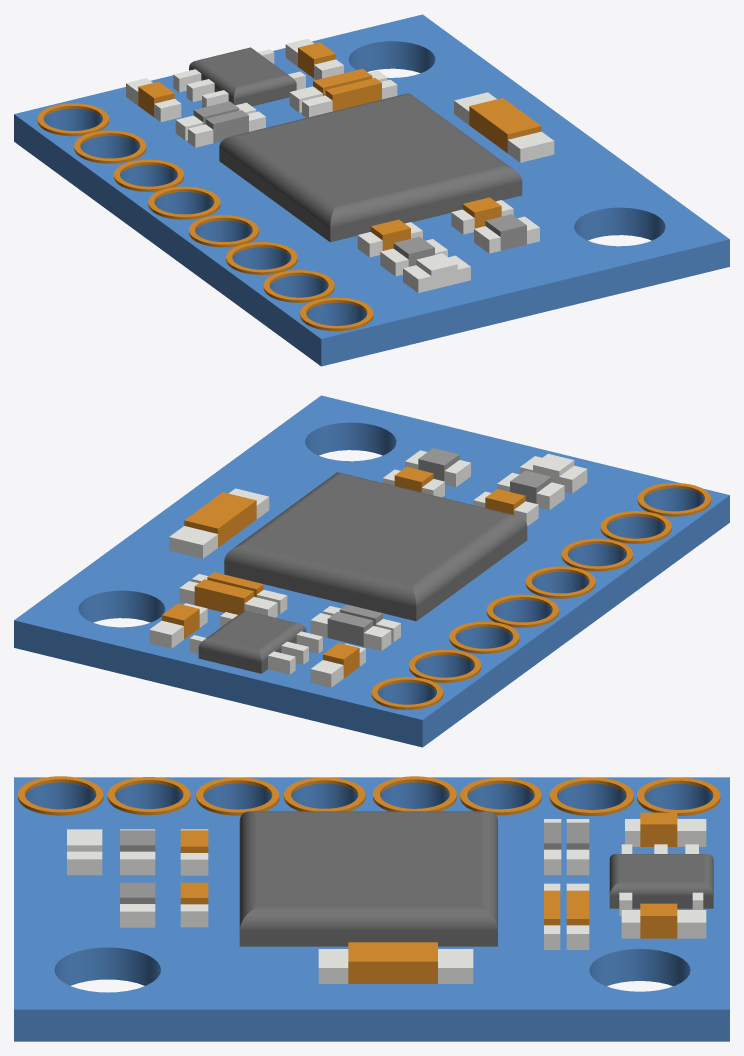
The model's file is MPU6050-v2.glb.
The picture shows the model from 3 angles, top to bottom: view 1: azimuth 30°, elevation 25°; view 2: azimuth 150°, elevation 25°; view 3: azimuth 270°, elevation 25°; orthographic projection. The views are drawn at different scales.
Parts seen in each view (by area): view 1: Body1, Body44, Body43, Body40, Body32, Body22, Body34, Body39, Body52, Body51, Body46, Body45 (+14 smaller); view 2: Body1, Body44, Body43, Body40, Body38, Body23, Body36, Body52, Body50, Body48, Body51, Body46 (+15 smaller); view 3: Body1, Body44, Body43, Body40, Body37, Body52, Body46, Body31, Body48, Body45, Body23, Body50 (+24 smaller).
Part boxes in pixels (x1=…): Body1: x1=14, y1=14, x2=729, y2=366; Body44: x1=219, y1=93, x2=522, y2=242; Body43: x1=189, y1=47, x2=296, y2=106; Body40: x1=469, y1=98, x2=541, y2=152; Body32: x1=325, y1=78, x2=381, y2=111; Body22: x1=507, y1=131, x2=554, y2=162; Body34: x1=485, y1=214, x2=526, y2=250; Body39: x1=416, y1=253, x2=457, y2=289; Body52: x1=300, y1=297, x2=373, y2=331; Body51: x1=148, y1=186, x2=220, y2=219; Body46: x1=74, y1=130, x2=146, y2=163; Body45: x1=226, y1=242, x2=297, y2=274; Body1: x1=14, y1=395, x2=729, y2=747; Body44: x1=224, y1=472, x2=527, y2=621; Body43: x1=198, y1=610, x2=306, y2=673; Body40: x1=184, y1=492, x2=256, y2=547; Body38: x1=194, y1=579, x2=253, y2=614; Body23: x1=169, y1=526, x2=217, y2=558; Body36: x1=327, y1=611, x2=373, y2=646; Body52: x1=637, y1=483, x2=710, y2=516; Body50: x1=371, y1=677, x2=443, y2=709; Body48: x1=600, y1=511, x2=671, y2=543; Body51: x1=486, y1=594, x2=558, y2=627; Body46: x1=409, y1=649, x2=480, y2=682; Body1: x1=14, y1=777, x2=729, y2=1041; Body44: x1=239, y1=811, x2=497, y2=946; Body43: x1=609, y1=854, x2=713, y2=908; Body40: x1=348, y1=942, x2=437, y2=983; Body37: x1=640, y1=903, x2=677, y2=938; Body52: x1=18, y1=776, x2=103, y2=815; Body46: x1=549, y1=777, x2=633, y2=815; Body31: x1=640, y1=812, x2=677, y2=846; Body48: x1=107, y1=777, x2=190, y2=815; Body45: x1=196, y1=777, x2=279, y2=815; Body23: x1=438, y1=949, x2=473, y2=983; Body50: x1=637, y1=777, x2=720, y2=815.
Size of the model in its own units: 15.56 by 2 by 20.26.
